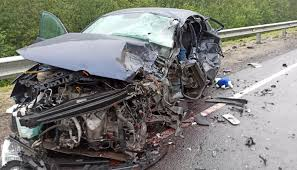car: (29, 4, 218, 154)
